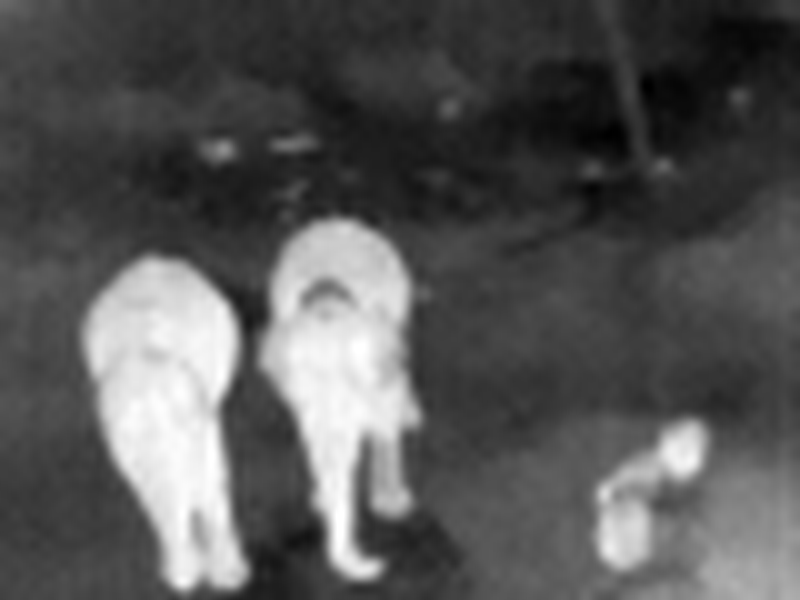elephant: (32, 234, 256, 542), (274, 224, 414, 569), (591, 419, 745, 584)
